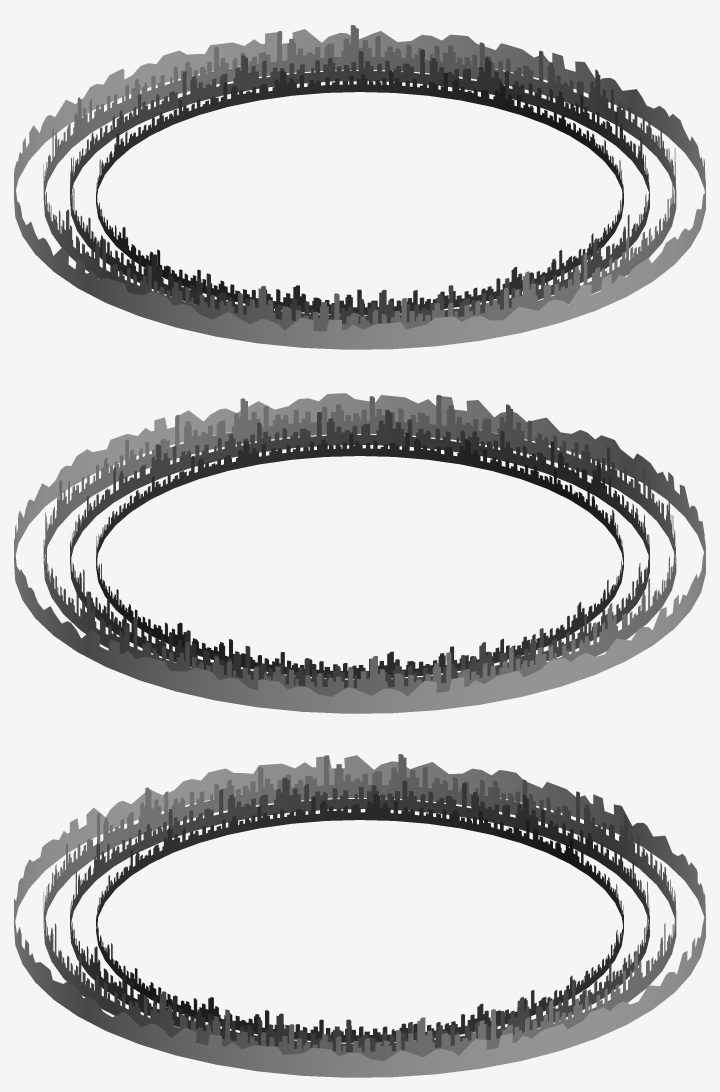
File: SM_Gen_Env_Skyline_01.gltf
The picture shows the model from 3 angles, top to bottom: view 1: azimuth 30°, elevation 25°; view 2: azimuth 150°, elevation 25°; view 3: azimuth 270°, elevation 25°; orthographic projection.
Parts seen in each view (by area): view 1: SM_Gen_Env_Skyline_03, SM_Gen_Env_Skyline_04, SM_Gen_Env_Skyline_02, SM_Gen_Env_Skyline_01; view 2: SM_Gen_Env_Skyline_03, SM_Gen_Env_Skyline_04, SM_Gen_Env_Skyline_02, SM_Gen_Env_Skyline_01; view 3: SM_Gen_Env_Skyline_03, SM_Gen_Env_Skyline_04, SM_Gen_Env_Skyline_02, SM_Gen_Env_Skyline_01.
Part boxes in pixels (left/top/right/bottom): SM_Gen_Env_Skyline_03: left=14, top=29, right=705, bottom=349; SM_Gen_Env_Skyline_04: left=43, top=25, right=676, bottom=331; SM_Gen_Env_Skyline_02: left=70, top=49, right=649, bottom=323; SM_Gen_Env_Skyline_01: left=96, top=70, right=623, bottom=314; SM_Gen_Env_Skyline_03: left=14, top=393, right=705, bottom=713; SM_Gen_Env_Skyline_04: left=43, top=395, right=676, bottom=696; SM_Gen_Env_Skyline_02: left=70, top=410, right=649, bottom=687; SM_Gen_Env_Skyline_01: left=96, top=432, right=623, bottom=678; SM_Gen_Env_Skyline_03: left=14, top=755, right=705, bottom=1077; SM_Gen_Env_Skyline_04: left=43, top=754, right=676, bottom=1060; SM_Gen_Env_Skyline_02: left=70, top=777, right=649, bottom=1051; SM_Gen_Env_Skyline_01: left=96, top=794, right=623, bottom=1042.
Bounding box in the file's own units: 437 × 38.79 × 437.
1 material, 1 textured.
